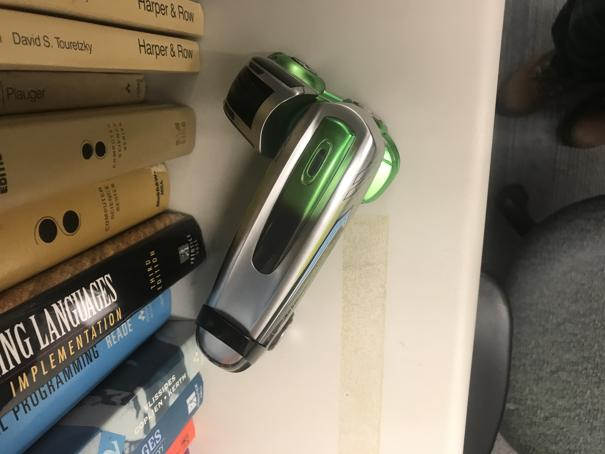Freewheel: (196, 49, 400, 374)
